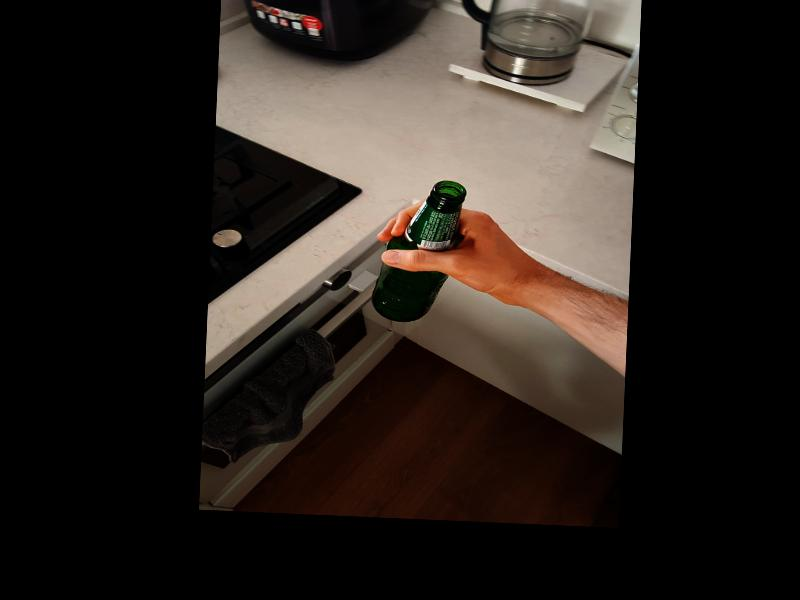Beer: (370, 178, 467, 325)
